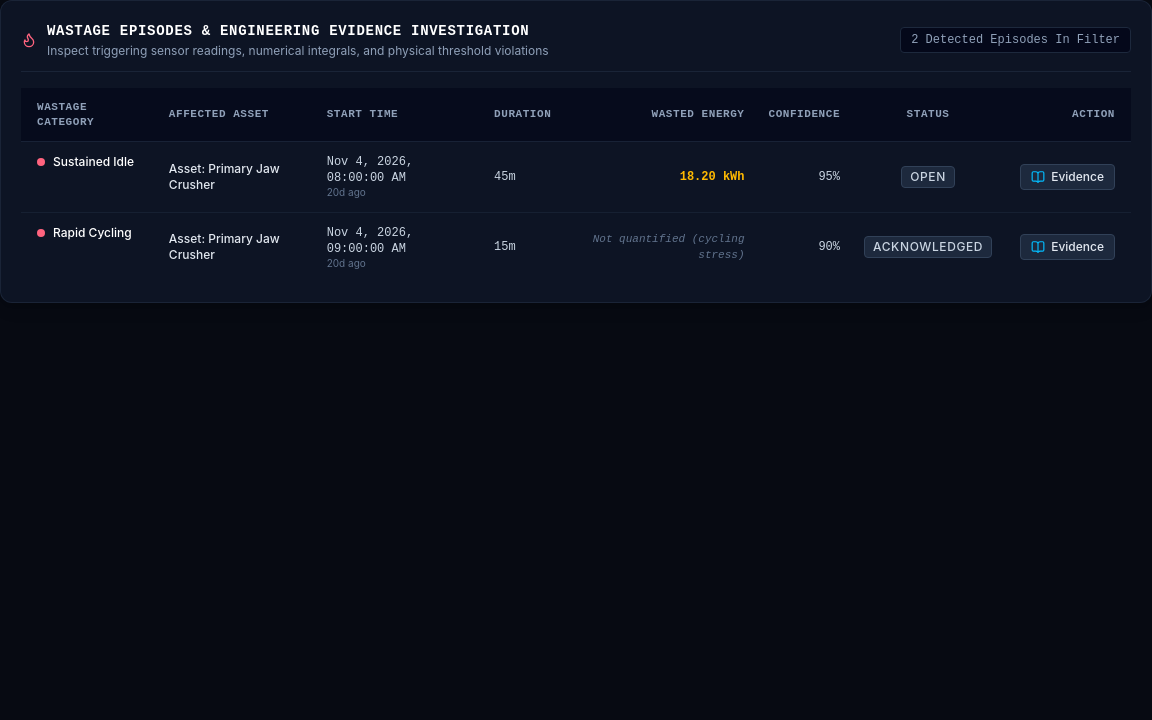
Test: Energy Intelligence Subcomponents (Stage 9D) › renders wastage episodes table and preserves unquantified label for cycling stress
The width and height of the screenshot is (1152, 720).
Check: the heading "Wastage Episodes & Engineering Evidence Investigation" is shown, box [47,21,549,41]
Check: the text "sustained idle" is shown, box [53,154,134,170]
Click "Evidence" button to open modal dossier
Click the button "Evidence" in the row of "sustained idle" at (1068, 177), box [1020,164,1115,190]
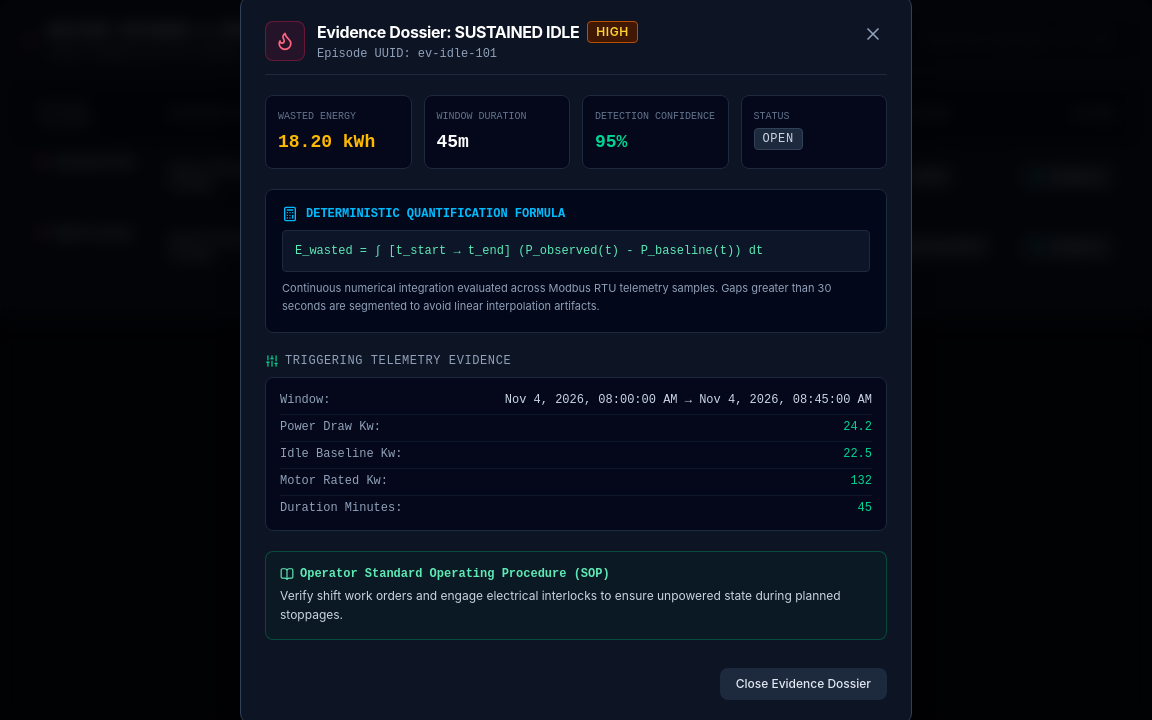
Check: the heading "Evidence Dossier: SUSTAINED IDLE" is shown, box [317,20,579,44]
Check: the text "Deterministic Quantification Formula" is shown, box [306,206,565,222]
